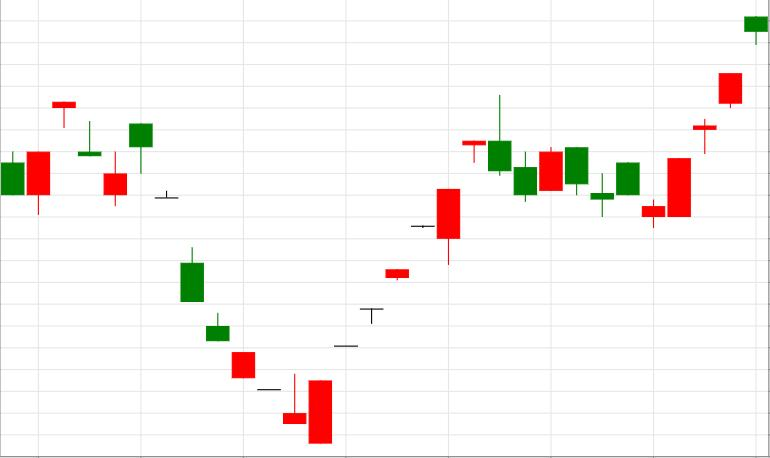shooting_star_fall: (309, 96, 511, 443)
